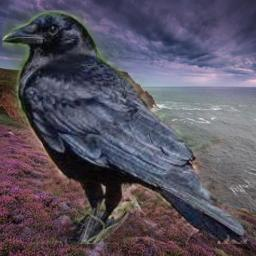Crow: (2, 10, 247, 244)
